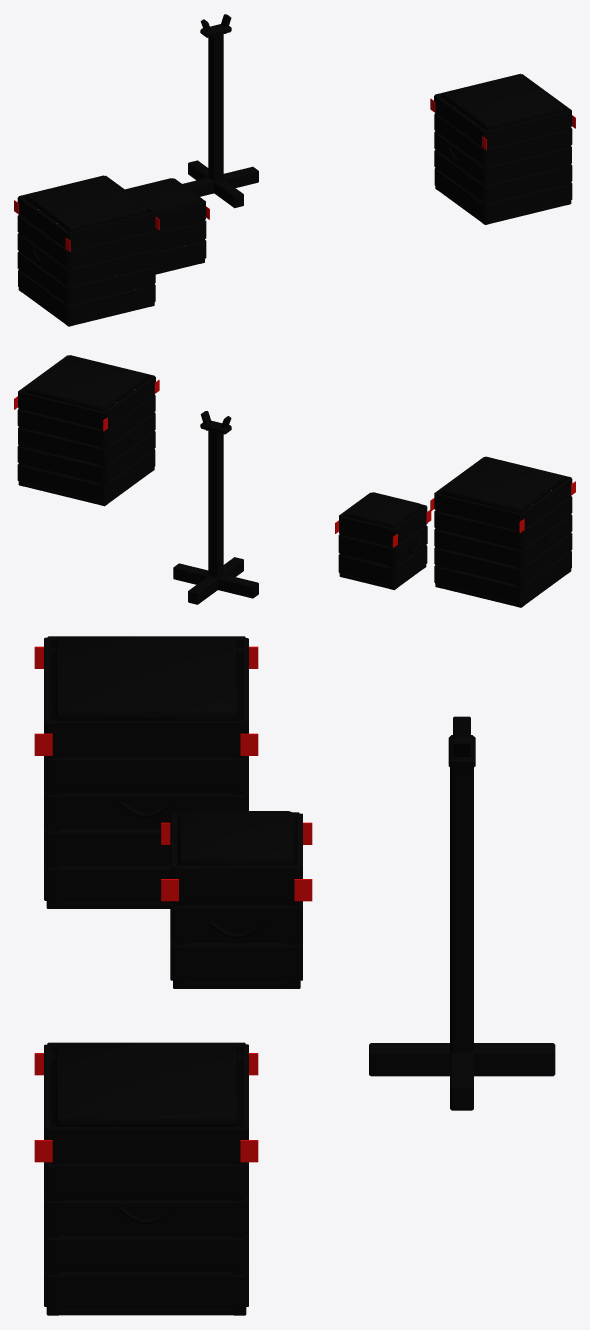
The model's file is bench.glb.
3 renders of one model, top to bottom at view 1: azimuth 30°, elevation 25°; view 2: azimuth 150°, elevation 25°; view 3: azimuth 270°, elevation 25°, orthographic. The views are drawn at different scales.
Parts seen in each view (by area): view 1: bench; view 2: bench; view 3: bench.
Part boxes in pixels (bbox=[...]): bench: bbox=[14, 14, 575, 326]; bench: bbox=[14, 355, 575, 607]; bench: bbox=[34, 636, 555, 1315].
Size of the model in its own units: 3.94 by 1.27 by 1.73.
